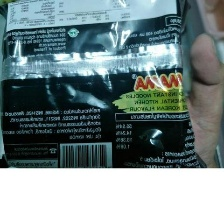snack: (0, 0, 211, 167)
